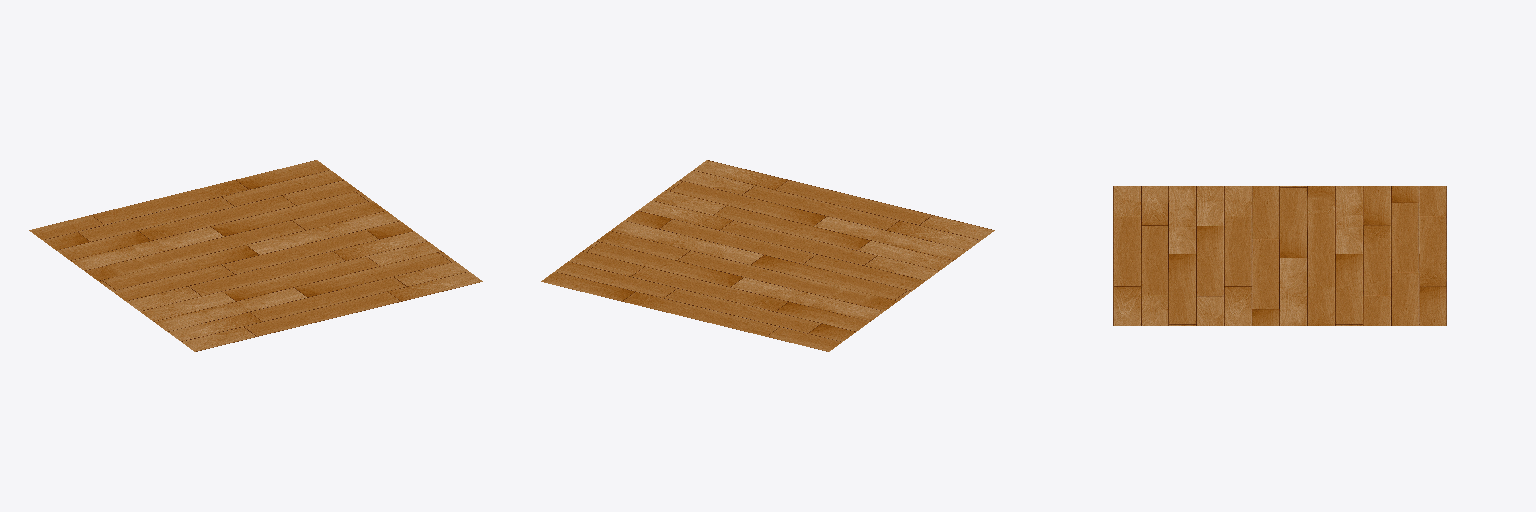
3 renders of one model, left to right at view 1: azimuth 30°, elevation 25°; view 2: azimuth 150°, elevation 25°; view 3: azimuth 270°, elevation 25°, orthographic.
Visible parts, largest first — view 1: Plane; view 2: Plane; view 3: Plane.
Part boxes in pixels (bbox=[...]): Plane: bbox=[29, 160, 482, 351]; Plane: bbox=[541, 160, 994, 351]; Plane: bbox=[1113, 186, 1446, 325].
Bounding box in the file's own units: 3.04 × 0 × 3.04.
1 materials, 1 textured.